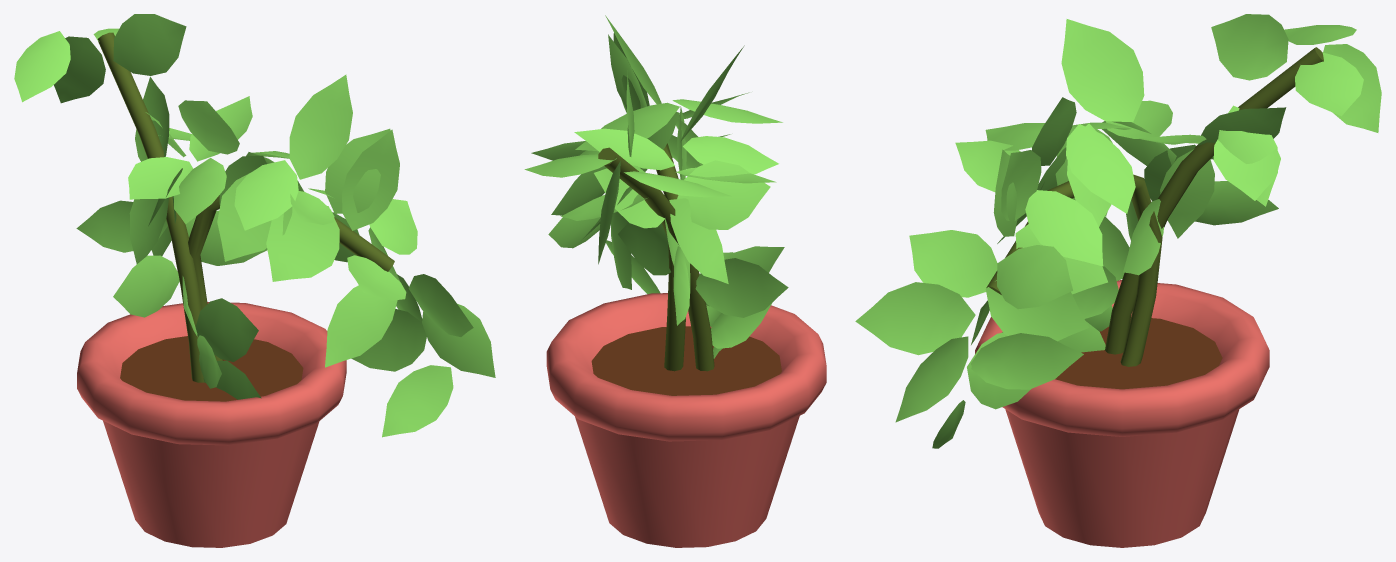
Rendered from SM_P_FlowerPot.fbx.
3 views of the same model, side by side, from view 1: azimuth 30°, elevation 25°; view 2: azimuth 150°, elevation 25°; view 3: azimuth 270°, elevation 25° (orthographic). The views are drawn at different scales.
Visible parts, largest first — view 1: Cylinder; view 2: Cylinder; view 3: Cylinder.
Boxes of the visible parts, <box> form: Cylinder: <box>14,14,495,547</box>; Cylinder: <box>524,15,826,547</box>; Cylinder: <box>855,14,1381,547</box>.
Size of the model in its own units: 37.36 by 55.23 by 52.86.
